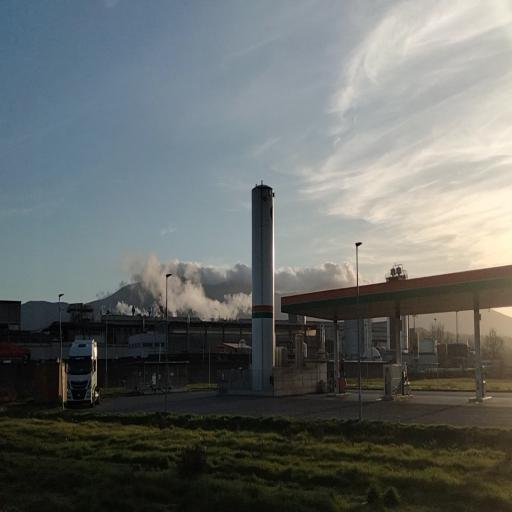leakage: (112, 252, 257, 327)
